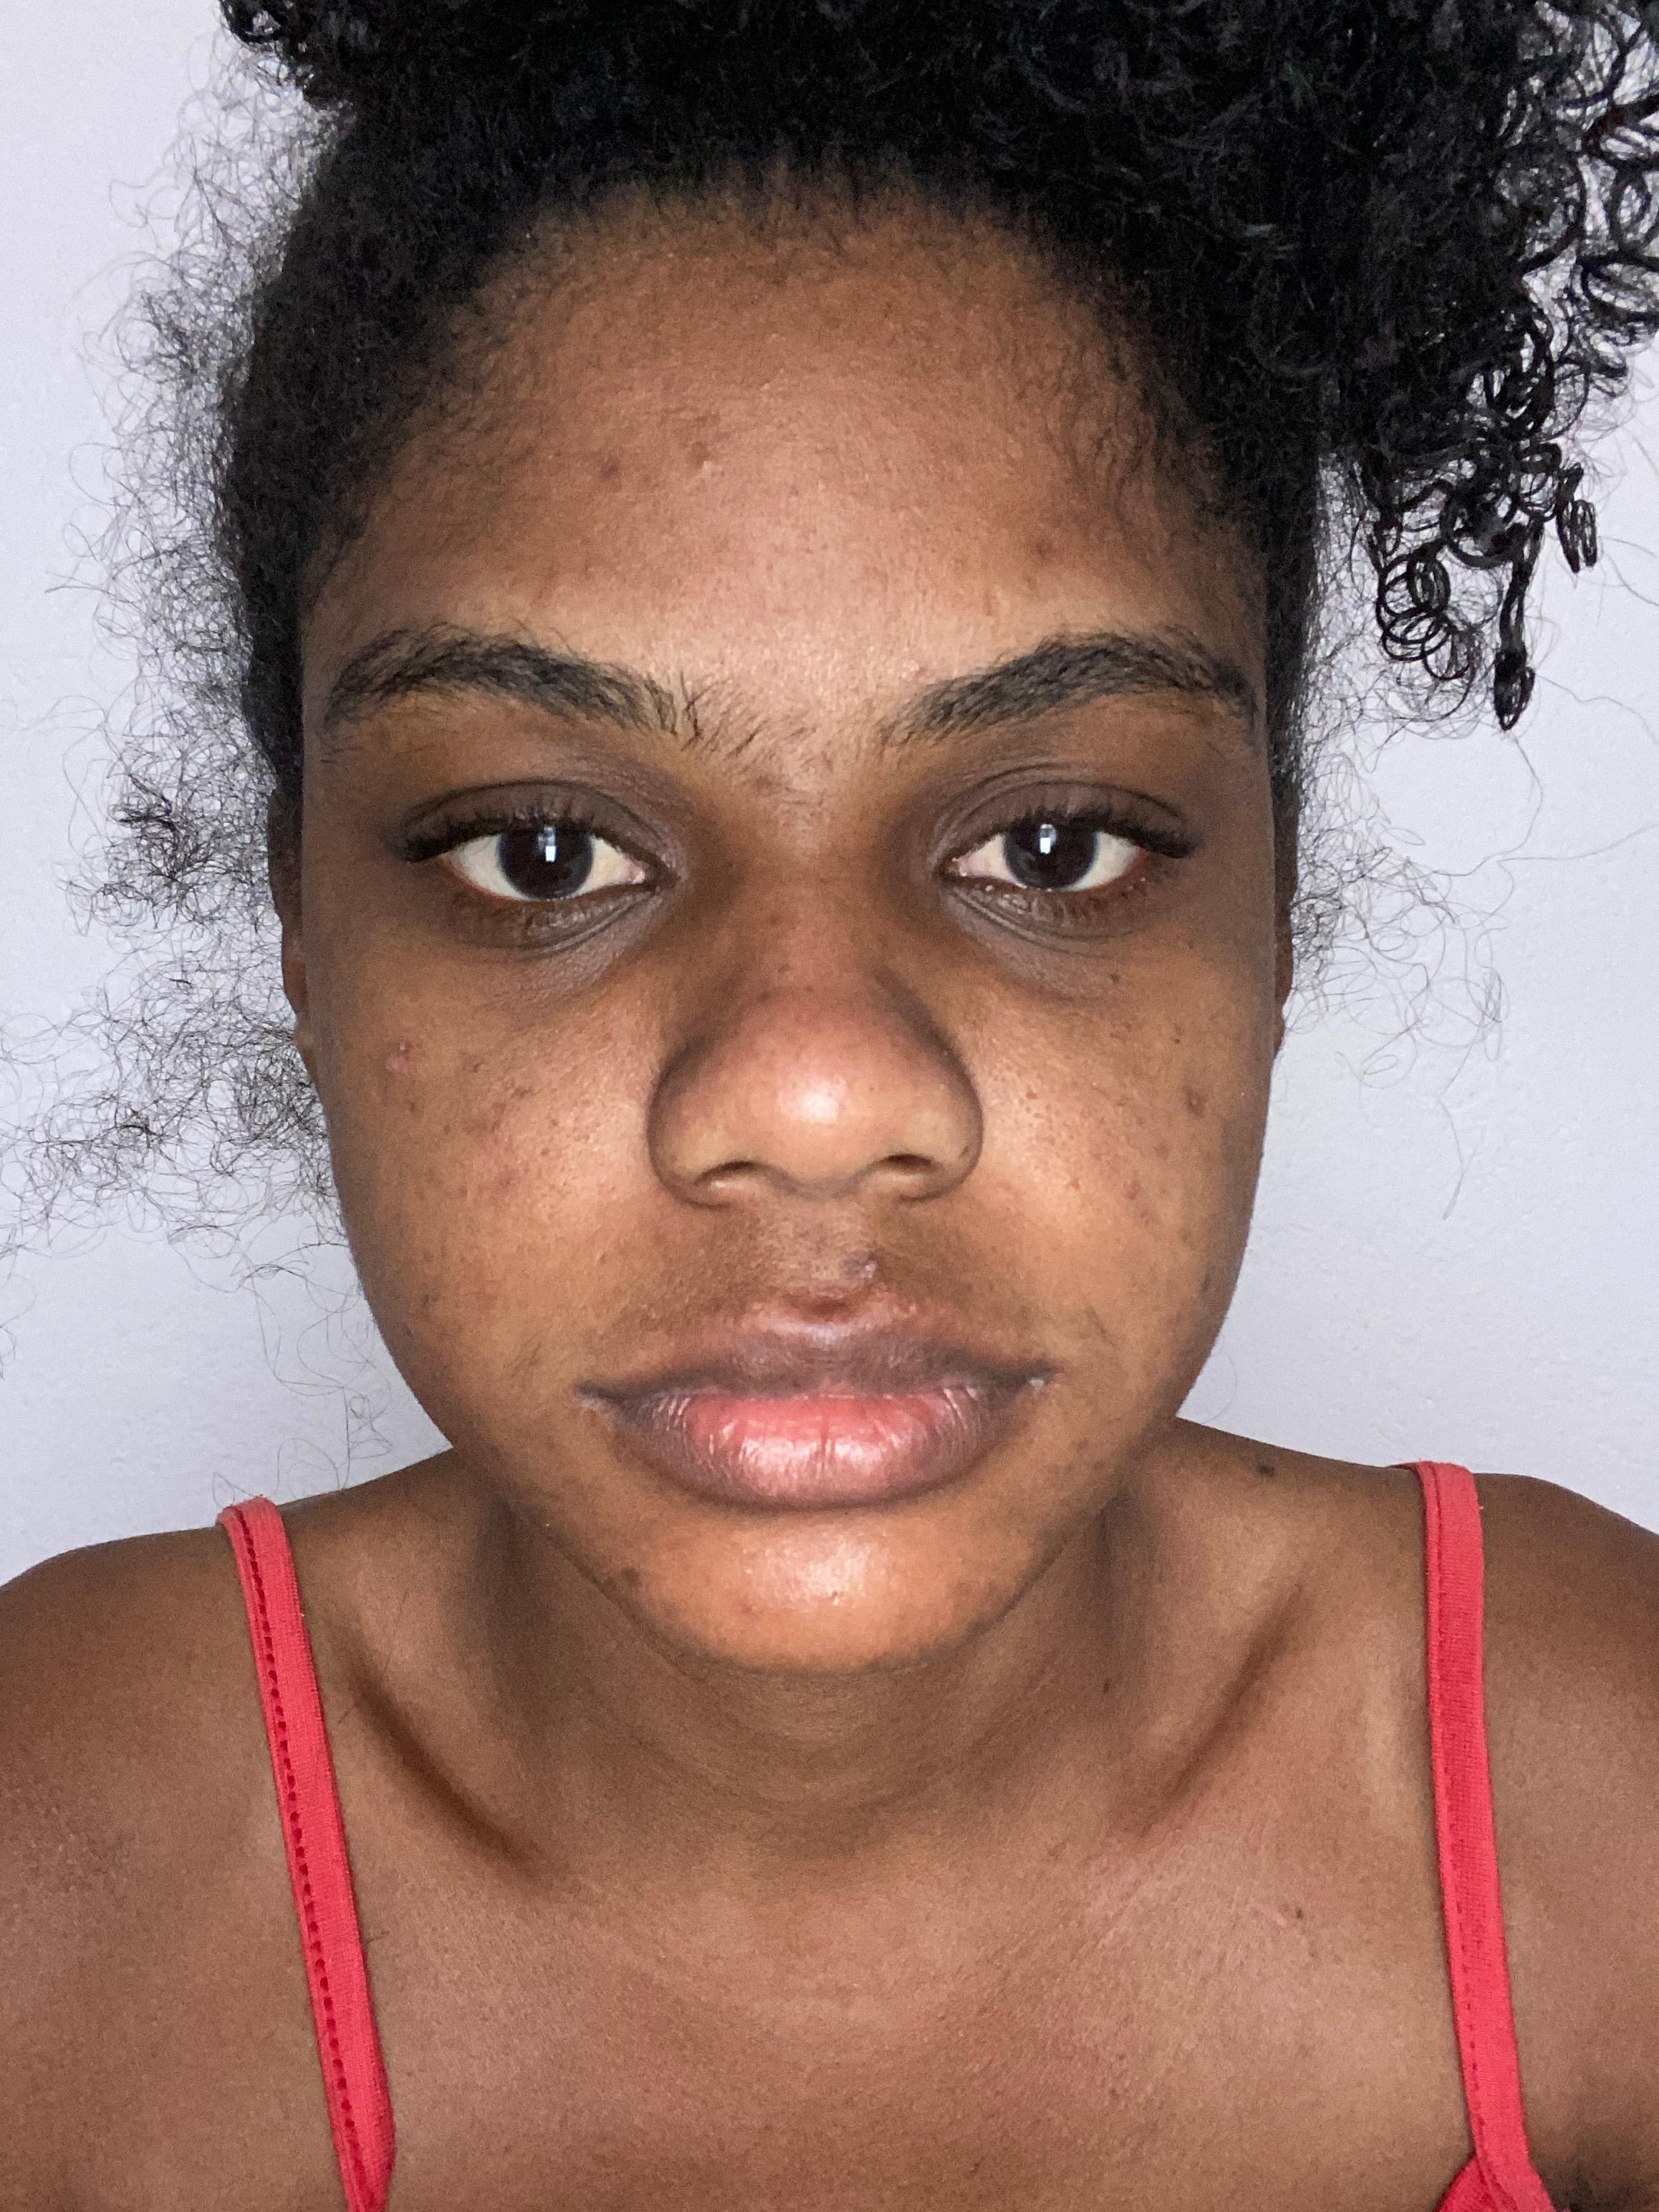Acne: (464, 1078, 540, 1136), (399, 1287, 443, 1343), (793, 1285, 854, 1322), (941, 1569, 1004, 1602), (521, 568, 563, 611), (383, 1031, 420, 1078), (586, 455, 629, 488), (1178, 1083, 1213, 1123), (1019, 533, 1061, 566), (451, 1045, 491, 1078), (613, 1561, 650, 1592), (690, 439, 720, 477), (978, 583, 1000, 632), (854, 1251, 890, 1280), (730, 1594, 762, 1627), (1119, 1167, 1145, 1205), (744, 768, 777, 798), (1190, 1266, 1218, 1301), (491, 1162, 521, 1193), (579, 556, 608, 582), (401, 1096, 427, 1122), (901, 657, 927, 681), (751, 986, 774, 1014), (777, 482, 807, 503), (765, 906, 786, 934), (1152, 1141, 1175, 1165), (755, 373, 779, 395), (774, 954, 798, 977), (821, 1581, 845, 1602), (1065, 1432, 1086, 1451), (812, 474, 829, 493), (547, 1116, 566, 1132), (533, 1144, 554, 1158)
Englarged-Pores: (990, 1055, 1093, 1183), (521, 1094, 601, 1211)
Eyebags: (375, 883, 730, 1003), (880, 866, 1176, 1005)
